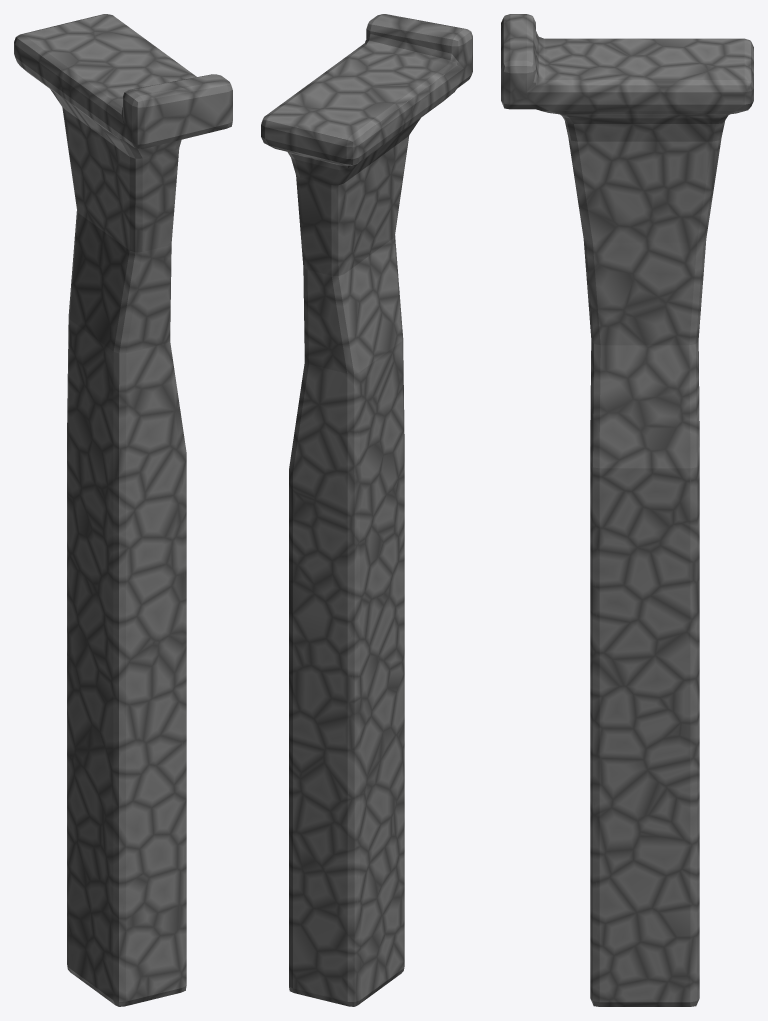
The model's file is bridge_small.fbx.
3 views of the same model, side by side, from view 1: azimuth 30°, elevation 25°; view 2: azimuth 150°, elevation 25°; view 3: azimuth 270°, elevation 25° (orthographic). The views are drawn at different scales.
Visible parts, largest first — view 1: Cube.002; view 2: Cube.002; view 3: Cube.002.
Part boxes in pixels (x1,y1,x2,y2): Cube.002: [14, 14, 232, 1006]; Cube.002: [261, 14, 472, 1006]; Cube.002: [501, 14, 753, 1006].
Bounding box in the file's own units: 177 × 1609 × 388.
1 material, 1 textured.
